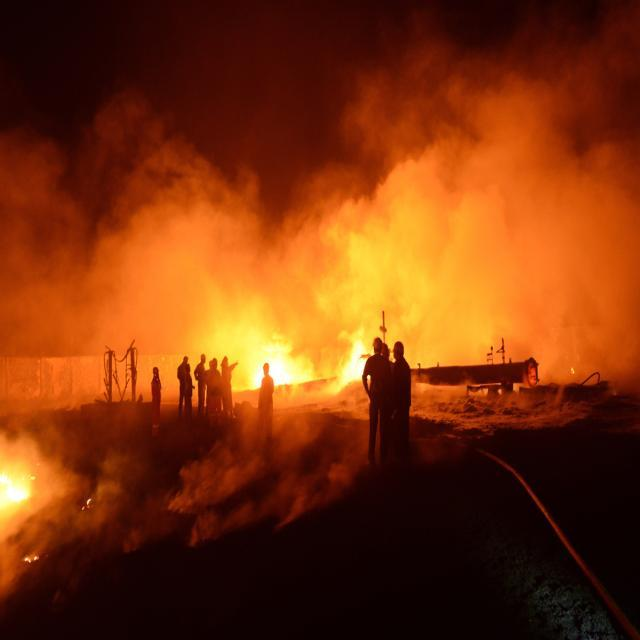Smoke: (310, 0, 639, 392), (0, 72, 331, 406), (185, 428, 388, 556), (164, 406, 318, 511), (66, 438, 132, 561), (118, 484, 189, 556)
